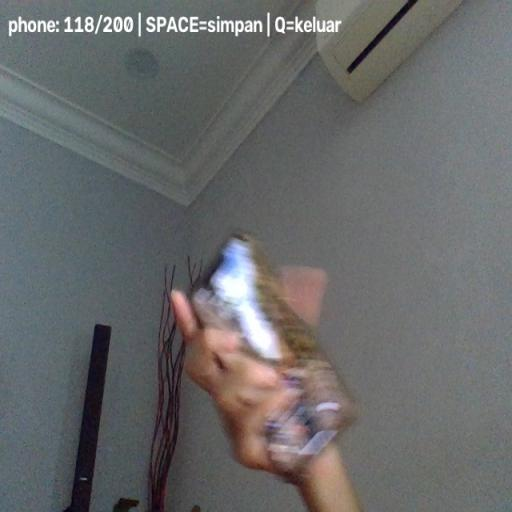Phone: (187, 230, 357, 472)
